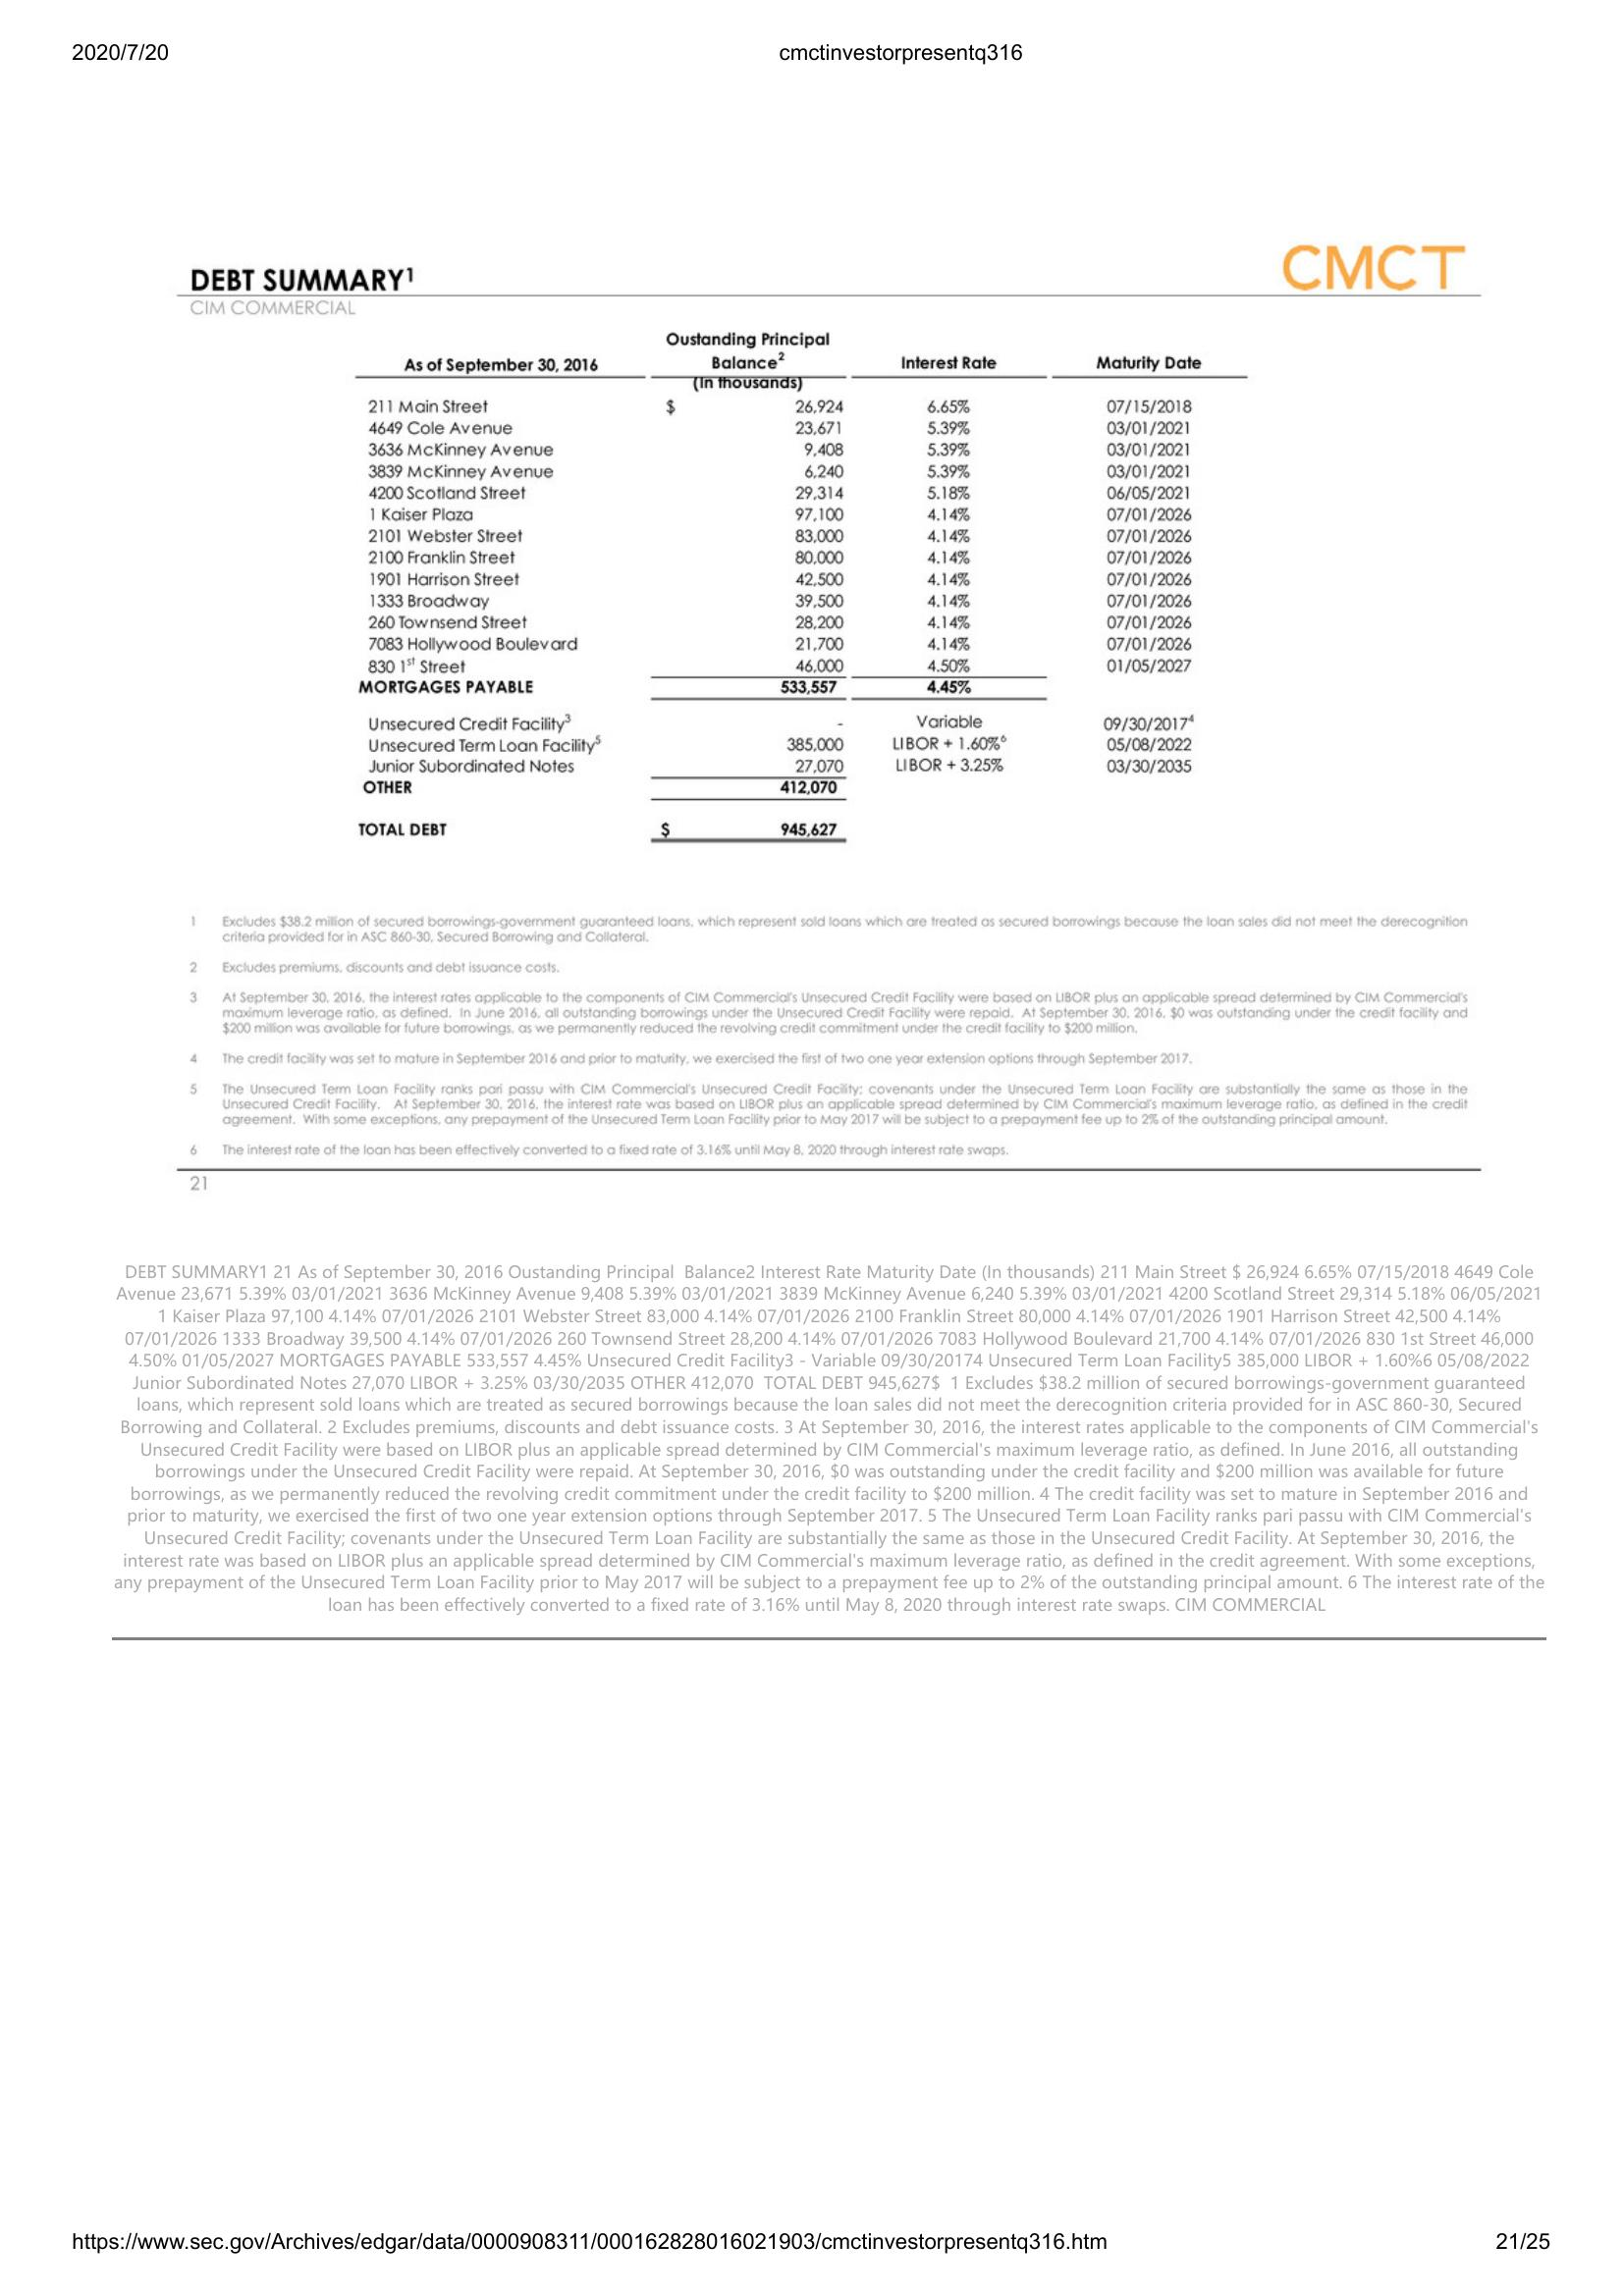table: (344, 330, 1251, 851)
